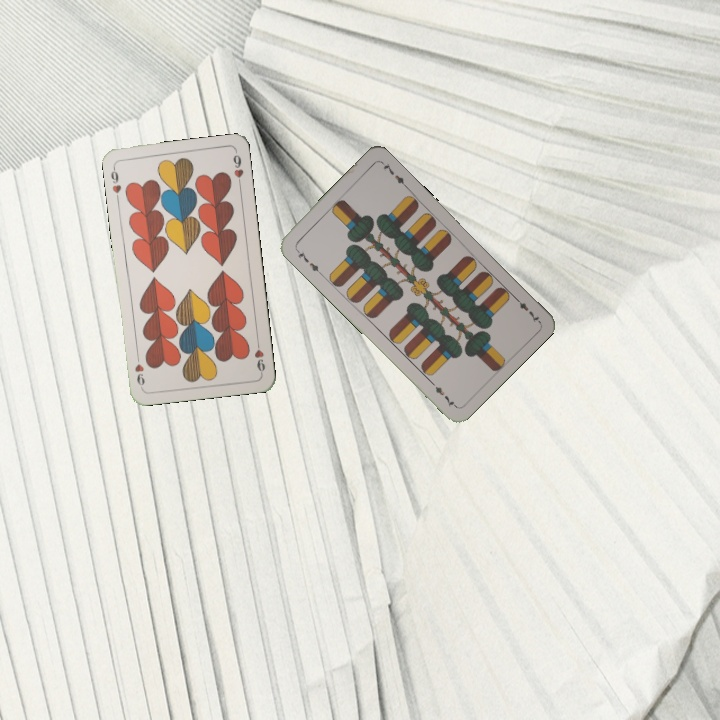E7: (291, 244, 323, 277), (510, 292, 542, 325)
H9: (250, 336, 267, 376), (107, 162, 124, 196)
